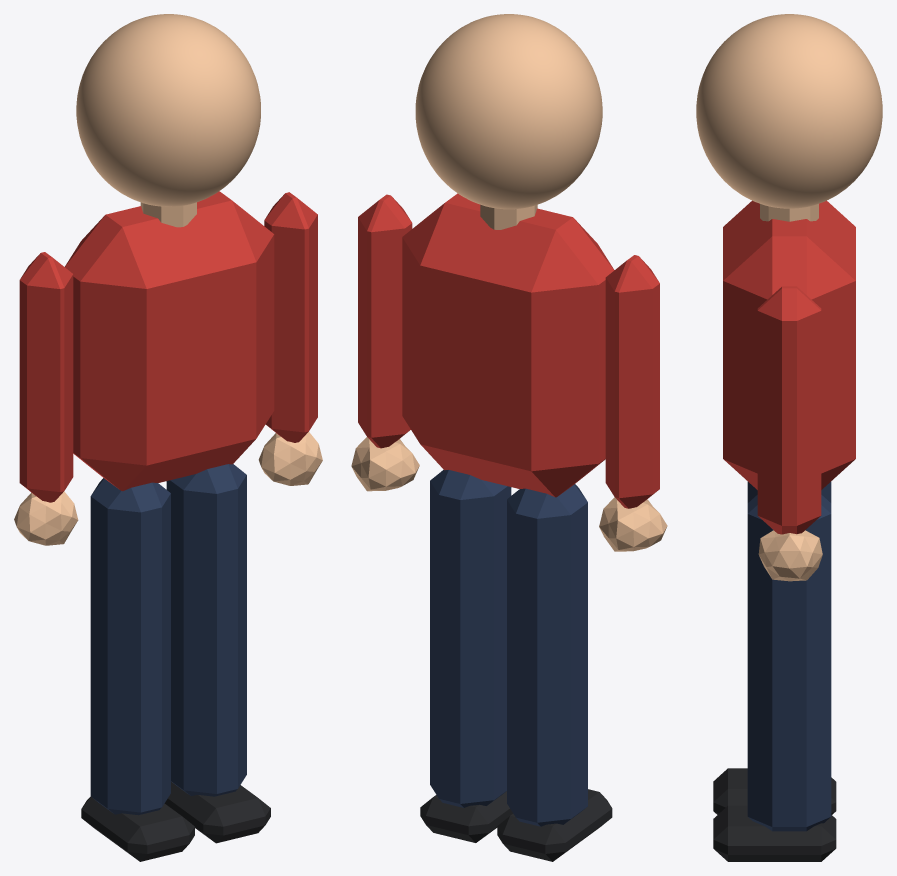
Rendered from pessoa_a.glb.
3 views of the same model, side by side, from view 1: azimuth 30°, elevation 25°; view 2: azimuth 150°, elevation 25°; view 3: azimuth 270°, elevation 25° (orthographic).
Parts seen in each view (by area): view 1: pessoa_a_02, pessoa_a_00, pessoa_a_04, pessoa_a_01, pessoa_a_03; view 2: pessoa_a_02, pessoa_a_00, pessoa_a_04, pessoa_a_01, pessoa_a_03; view 3: pessoa_a_02, pessoa_a_04, pessoa_a_00, pessoa_a_01, pessoa_a_03.
Part boxes in pixels (bbox=[...]): pessoa_a_02: bbox=[19, 191, 317, 502]; pessoa_a_00: bbox=[90, 464, 246, 815]; pessoa_a_04: bbox=[76, 14, 260, 206]; pessoa_a_01: bbox=[81, 781, 270, 861]; pessoa_a_03: bbox=[14, 202, 322, 545]; pessoa_a_02: bbox=[358, 193, 659, 508]; pessoa_a_00: bbox=[430, 469, 587, 826]; pessoa_a_04: bbox=[415, 14, 602, 209]; pessoa_a_01: bbox=[420, 789, 612, 861]; pessoa_a_03: bbox=[351, 204, 667, 551]; pessoa_a_02: bbox=[723, 200, 855, 534]; pessoa_a_04: bbox=[696, 14, 882, 208]; pessoa_a_00: bbox=[747, 481, 831, 831]; pessoa_a_01: bbox=[713, 768, 836, 861]; pessoa_a_03: bbox=[758, 204, 822, 581].
Bounding box in the file's own units: 0.7176 × 1.82 × 0.3796.
